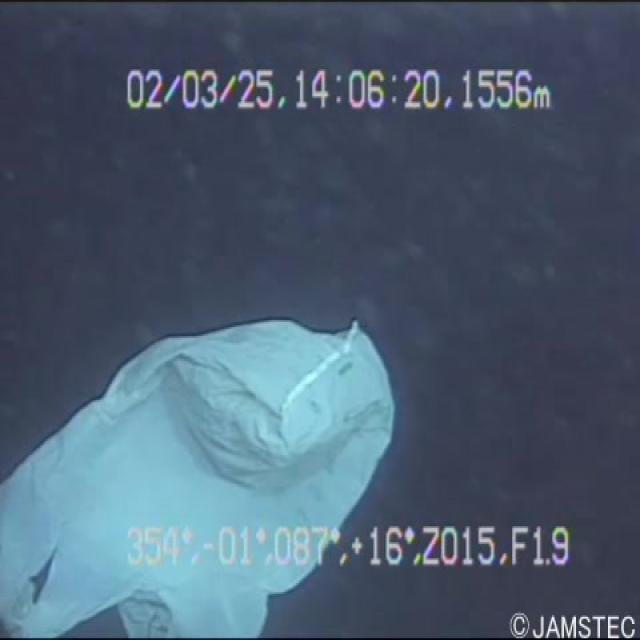plastic: (4, 302, 409, 638)
